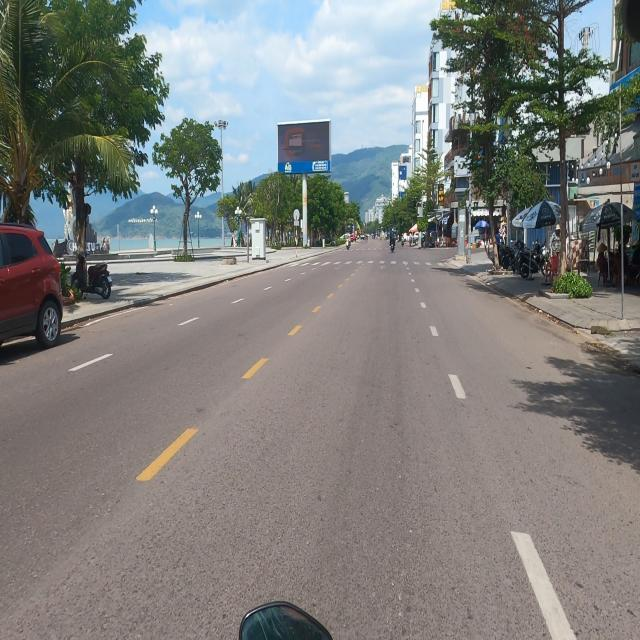walk-crossing: (286, 256, 458, 268)
